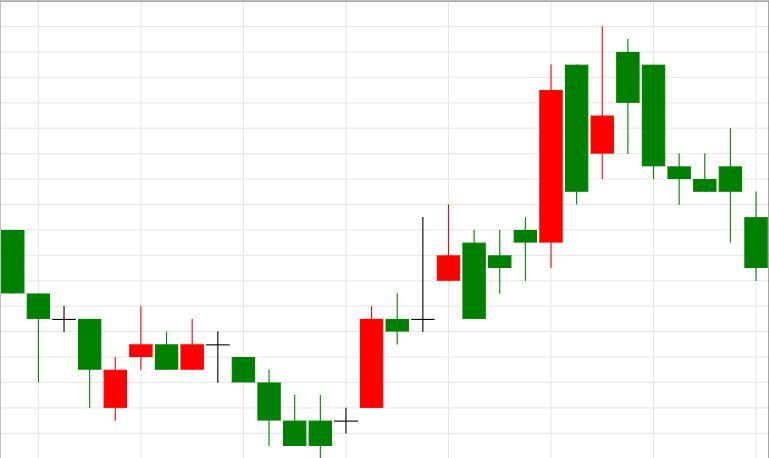shooting_star_fall: (309, 204, 460, 457)
